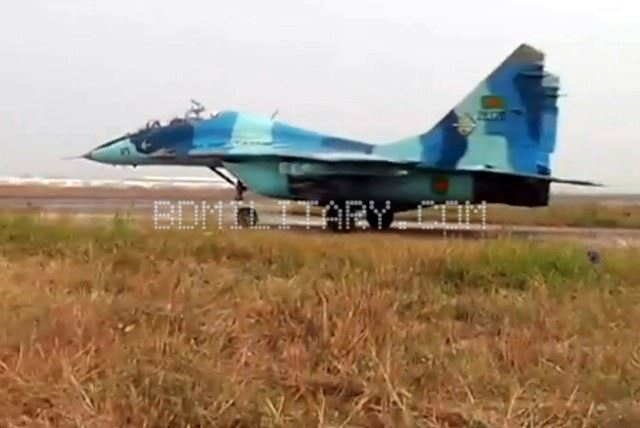Bangladesh: (481, 94, 507, 111), (431, 175, 451, 196)
Mig-29: (67, 36, 593, 245)
